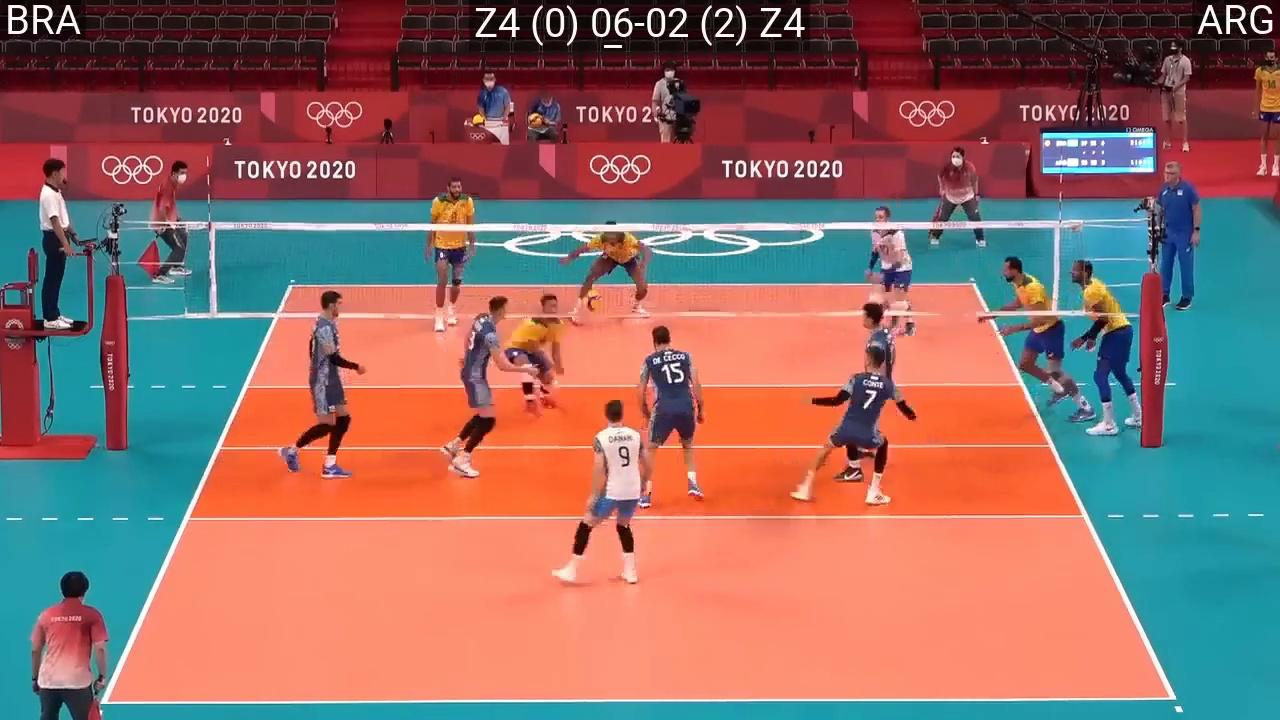ball: (582, 289, 603, 314)
